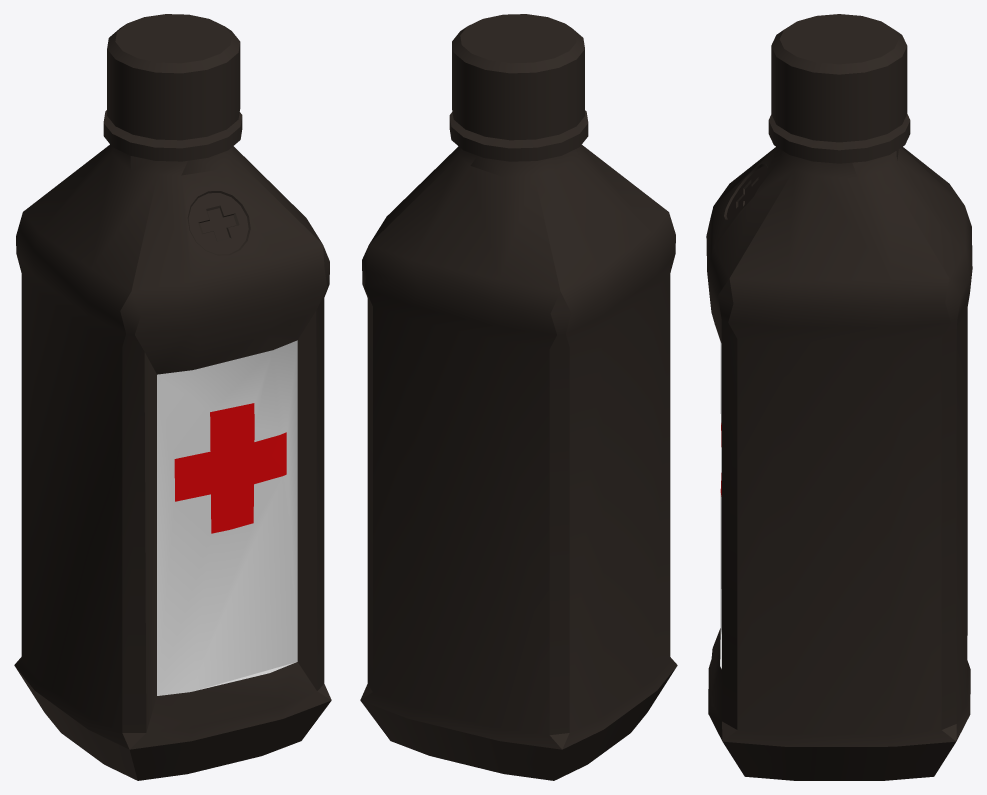
The model's file is Bottle1.fbx.
The picture shows the model from 3 angles, left to right: view 1: azimuth 30°, elevation 25°; view 2: azimuth 150°, elevation 25°; view 3: azimuth 270°, elevation 25°; orthographic projection.
Visible parts, largest first — view 1: Bottle1, Cap; view 2: Bottle1, Cap; view 3: Bottle1, Cap.
Part boxes in pixels (left/top/right/bottom): Bottle1: left=14, top=110, right=331, bottom=780; Cap: left=107, top=14, right=240, bottom=140; Bottle1: left=360, top=110, right=677, bottom=780; Cap: left=452, top=14, right=584, bottom=140; Bottle1: left=706, top=114, right=972, bottom=780; Cap: left=771, top=14, right=907, bottom=142.
Size of the model in its own units: 5.64 by 16.4 by 5.67.
